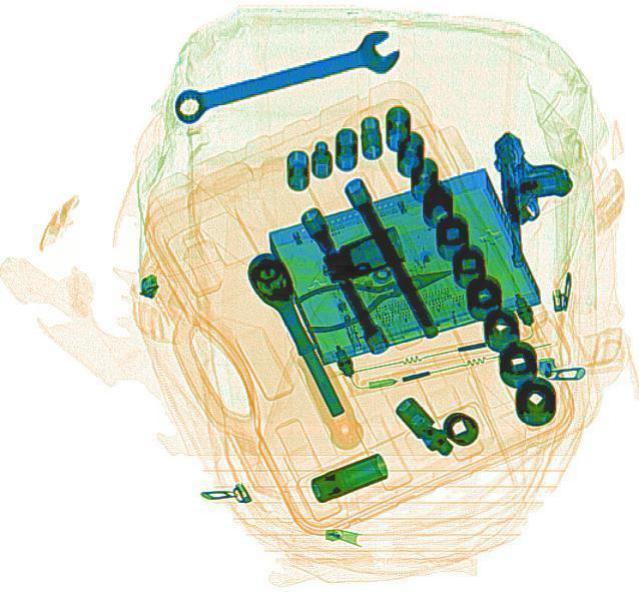Gun: (489, 125, 580, 266)
Pliers: (292, 249, 463, 337)
Wrench: (165, 24, 406, 128)
